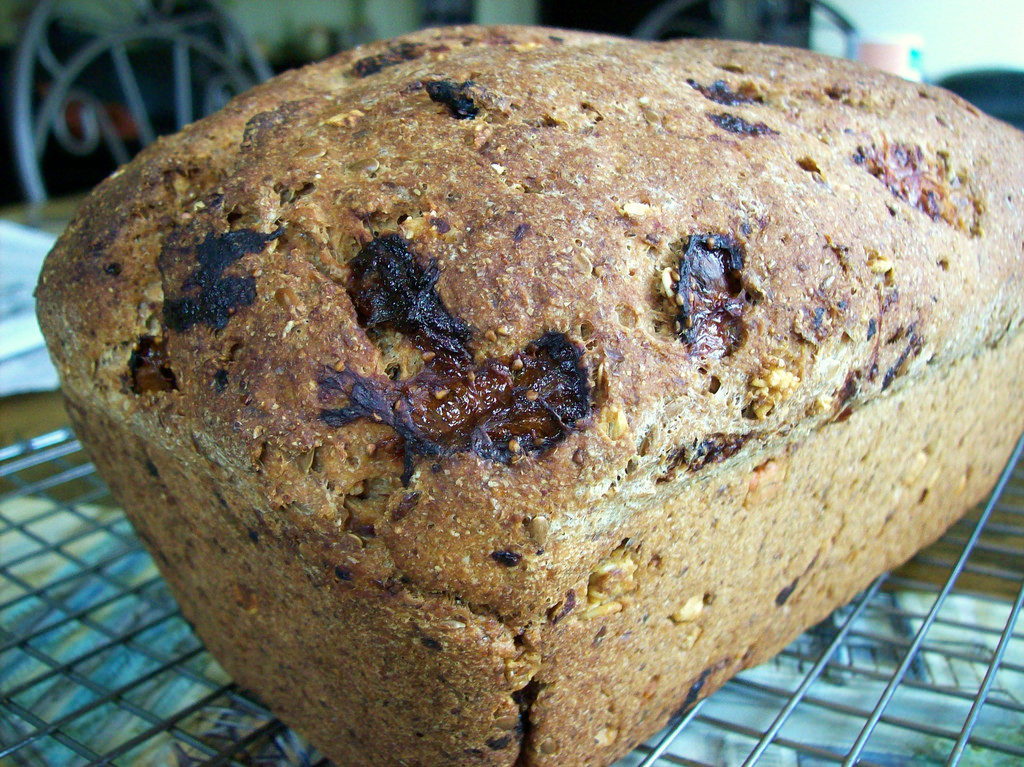slice of bread: (26, 31, 1024, 762)
